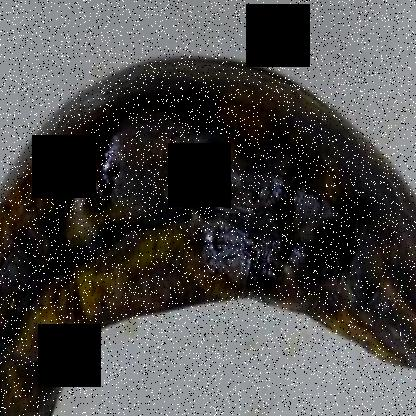rotten: (0, 45, 415, 416)
